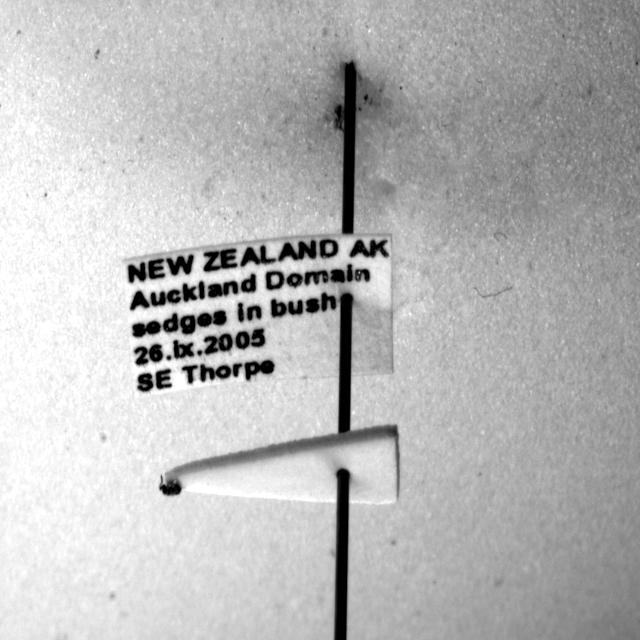typed_label: (124, 234, 392, 396)
